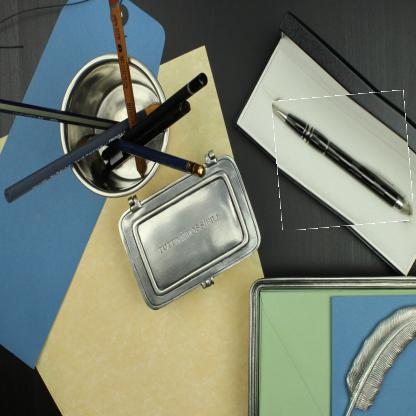Pen: (275, 94, 412, 228)
